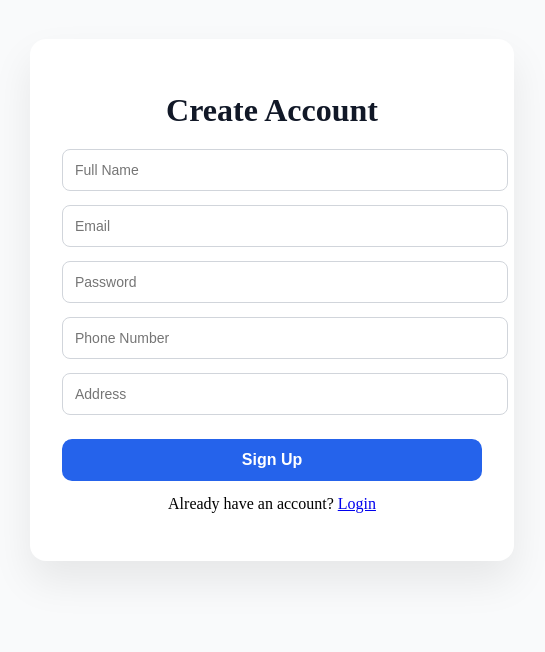
it: Signup Component › shows validation error for empty inputs
Step 1. Click the button "Sign Up" → (272, 460), box [62,439,482,481]
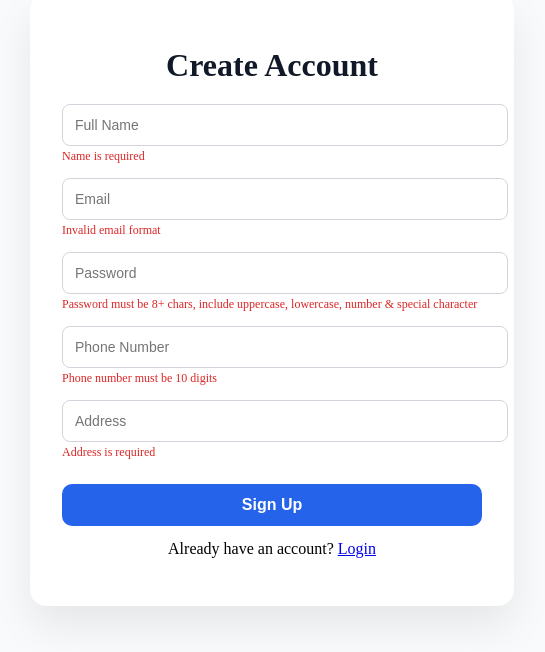
Now the text "Name is required" is shown, box [62,149,145,163]
Now the text "Invalid email format" is shown, box [62,223,161,237]
Now the text "Phone number must be 10 digits" is shown, box [62,371,217,385]
